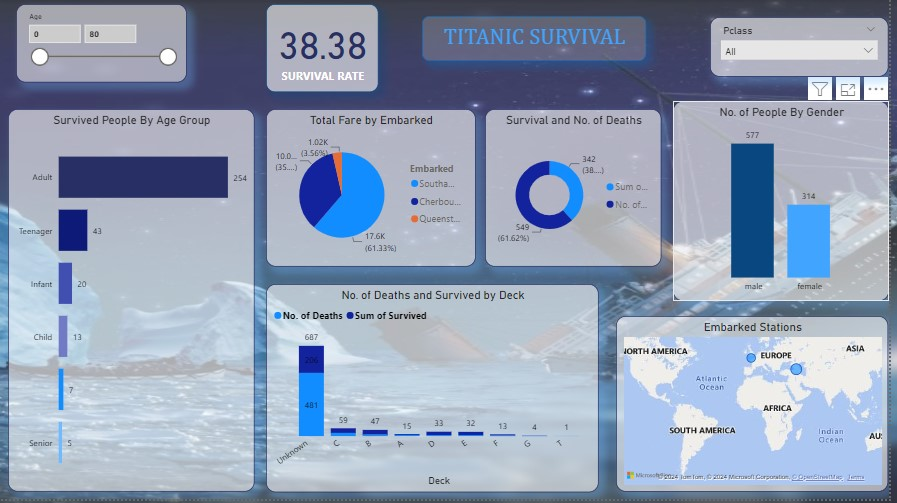

The page's visual inventory and layout, read from the dashboard file:
{"tool":"powerbi","page":{"name":"Survival","canvas":[1280,720],"ordinal":0},"visuals":[{"type":"pieChart","title":"Total Fare by Embarked","fields":{"Category":["Titanic_Survival.Embarked"],"Y":["Sum(Titanic_Survival.Total Fare)"]},"box":[383.5,158,301.5,226.7],"z":0},{"type":"map","title":"Embarked Stations","fields":{"Category":["Titanic_Survival.Embarked"],"Size":["Sum(Titanic_Survival.Total Fare)"]},"box":[887.6,455.9,392,253.3],"z":1000},{"type":"columnChart","title":"No. of Deaths and Survived by Deck","fields":{"Category":["Titanic_Survival.Deck"],"Y":["Titanic_Survival.No. of Deaths","Sum(Titanic_Survival.Survived)"]},"box":[383.5,410.1,478.8,300.3],"z":2000},{"type":"clusteredColumnChart","title":"No. of People By Gender","fields":{"Y":["CountNonNull(Titanic_Survival.Name)"],"Category":["Titanic_Survival.Sex"]},"box":[968.4,147.1,311.2,288.2],"z":3000},{"type":"card","fields":{"Values":["Titanic_Survival.SURVIVAL RATE"]},"box":[383.5,7.2,161.6,126.6],"z":4000},{"type":"donutChart","title":" Survival and No. of Deaths","fields":{"Y":["Sum(Titanic_Survival.Survived)","Titanic_Survival.No. of Deaths"]},"box":[698.3,158,254.5,226.7],"z":5000},{"type":"clusteredBarChart","title":"Survived People By Age Group","fields":{"Category":["Titanic_Survival.Age Group"],"Y":["Sum(Titanic_Survival.Survived)"]},"box":[10.9,158,354.6,551.2],"z":6000},{"type":"slicer","fields":{"Values":["Titanic_Survival.Age"]},"box":[22.5,7.5,246.2,112.5],"z":7000},{"type":"slicer","fields":{"Values":["Titanic_Survival.Pclass"]},"box":[1022.7,25.3,256.9,85.6],"z":8000},{"type":"textbox","box":[607.5,25,322.5,65],"z":9000}]}

Visuals, with their boxes in screenshot pixels (x1, y1, x2, y2), scaled from the page's 1280x720 canvas onto the 897x503 screenshot:
"Total Fare by Embarked" pieChart: box(269, 110, 480, 269)
"Embarked Stations" map: box(622, 318, 896, 495)
"No. of Deaths and Survived by Deck" columnChart: box(269, 287, 604, 496)
"No. of People By Gender" clusteredColumnChart: box(679, 103, 896, 304)
card - Titanic_Survival.SURVIVAL RATE: box(269, 5, 382, 93)
" Survival and No. of Deaths" donutChart: box(489, 110, 668, 269)
"Survived People By Age Group" clusteredBarChart: box(8, 110, 256, 495)
slicer - Titanic_Survival.Age: box(16, 5, 188, 84)
slicer - Titanic_Survival.Pclass: box(717, 18, 896, 77)
textbox: box(426, 17, 652, 63)
